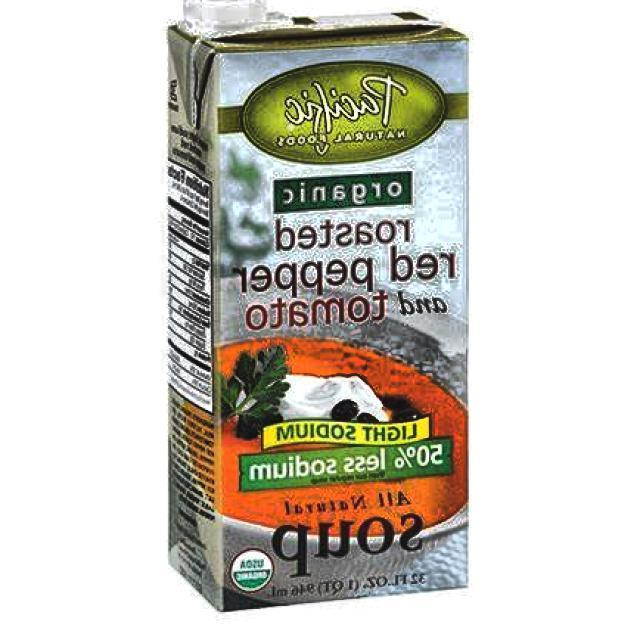cardboard: (165, 6, 472, 612)
